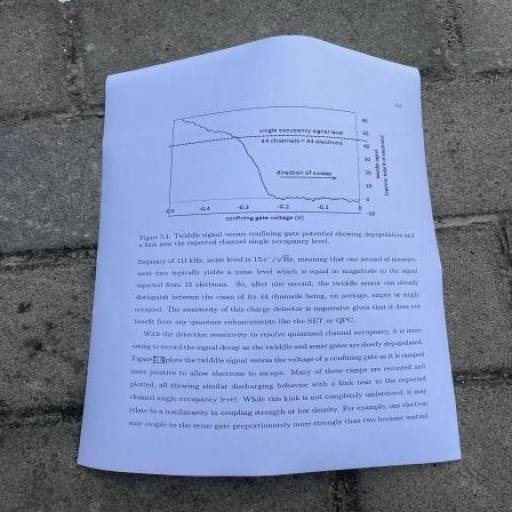paper: (34, 31, 476, 503)
